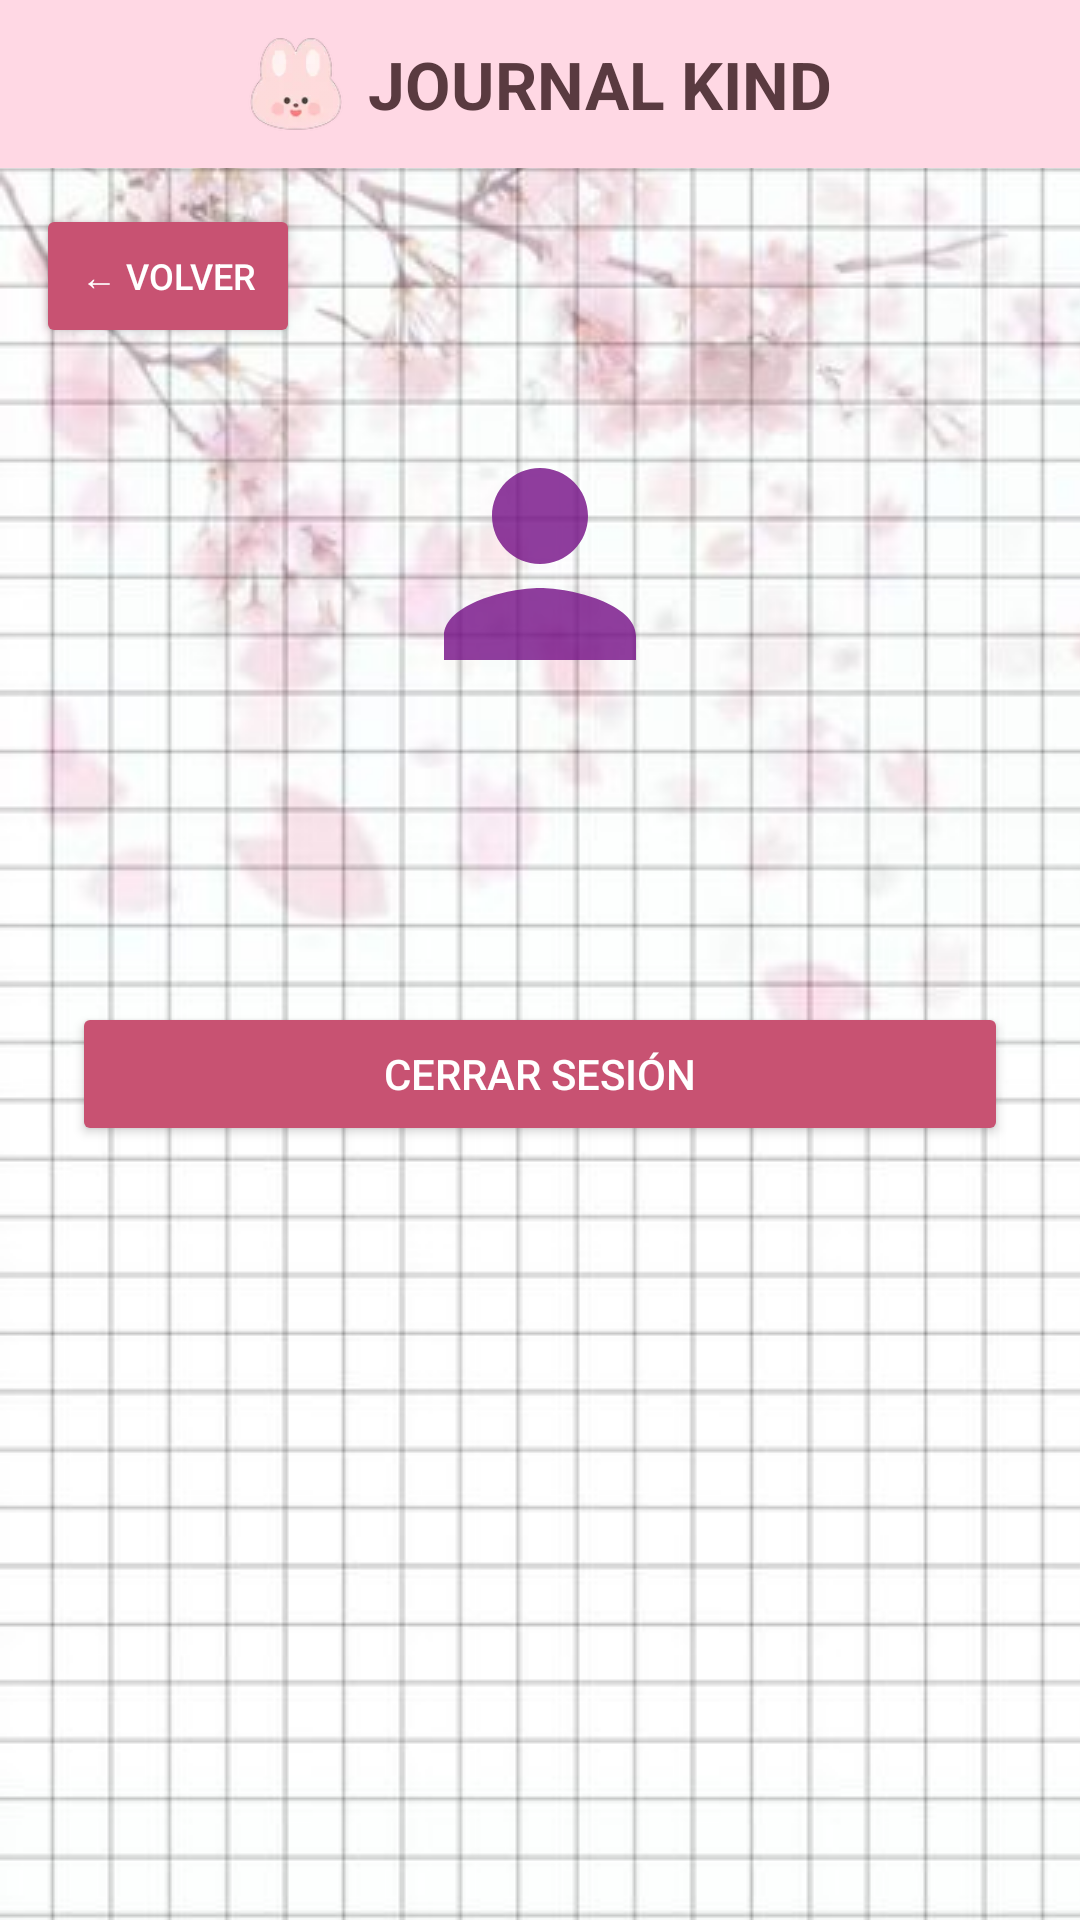

Screen size 1080w x 1920h. Icon name, then its box in pixels as rect(x1, y1, x2, y2):
Foto de perfil: rect(396, 420, 684, 708)
